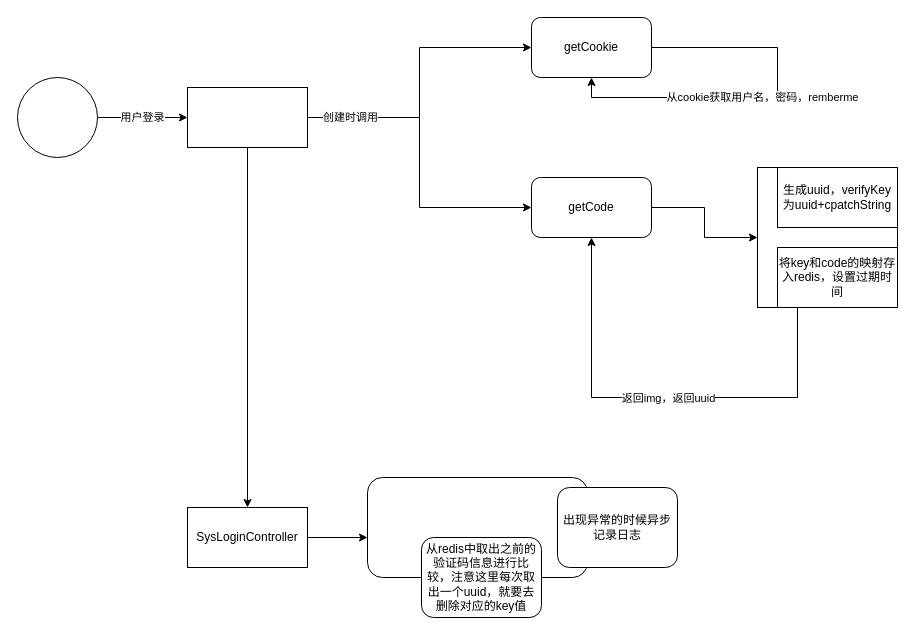
Some shapes in this 915 by 635 pixel diagram are drawn without their labels. Each missing label, with the box of its shape:
/captchaImage: (756, 166, 898, 308)
login.vue: (186, 86, 308, 148)
validateCaptcha: (366, 476, 588, 578)
